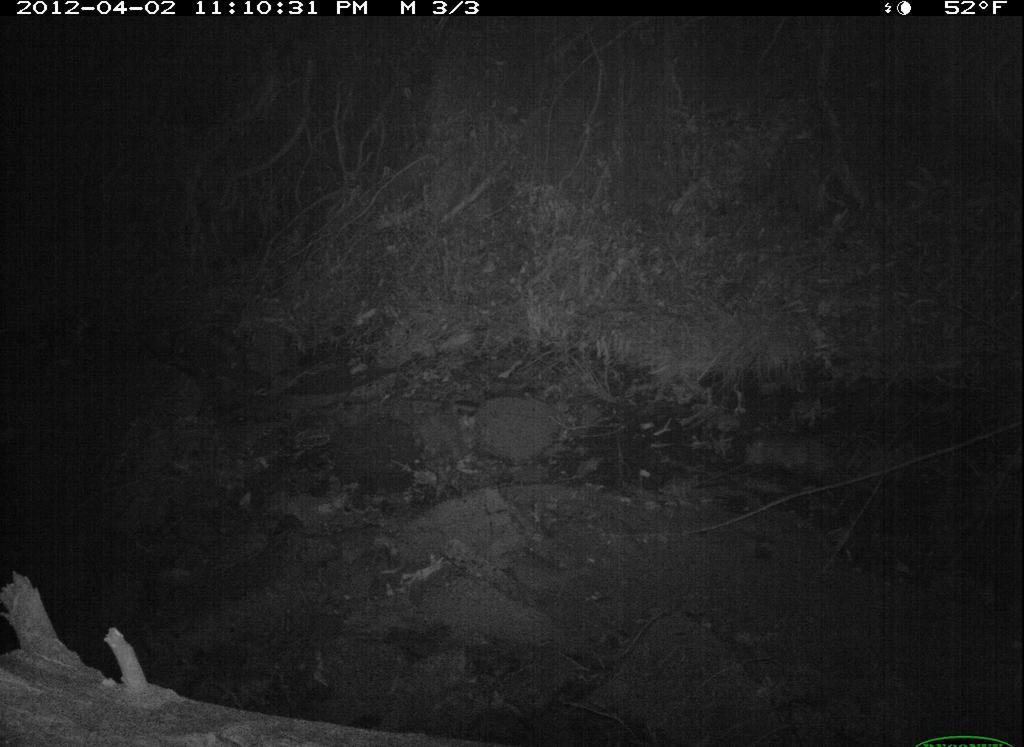opossum: (733, 429, 890, 498)
